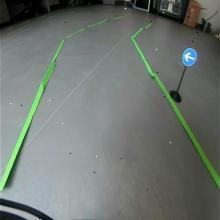left: (181, 48, 198, 67)
